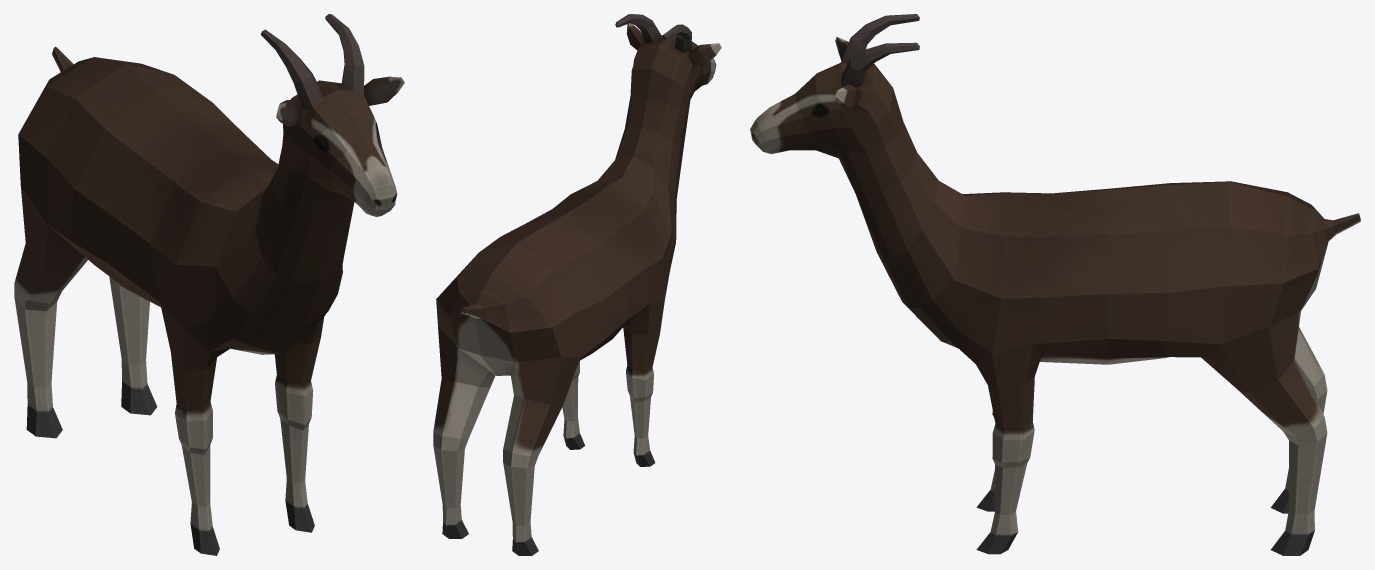
Rendered from goat.glb.
3 views of the same model, side by side, from view 1: azimuth 30°, elevation 25°; view 2: azimuth 150°, elevation 25°; view 3: azimuth 270°, elevation 25° (orthographic). The views are drawn at different scales.
Parts seen in each view (by area): view 1: Goat_mesh; view 2: Goat_mesh; view 3: Goat_mesh.
Boxes of the visible parts, x1,y1,x2,y2 form: Goat_mesh: (14, 14, 404, 555); Goat_mesh: (433, 14, 721, 555); Goat_mesh: (750, 14, 1360, 555).
Size of the model in its own units: 2.26 by 6.6 by 7.31.
1 material, 1 textured.
